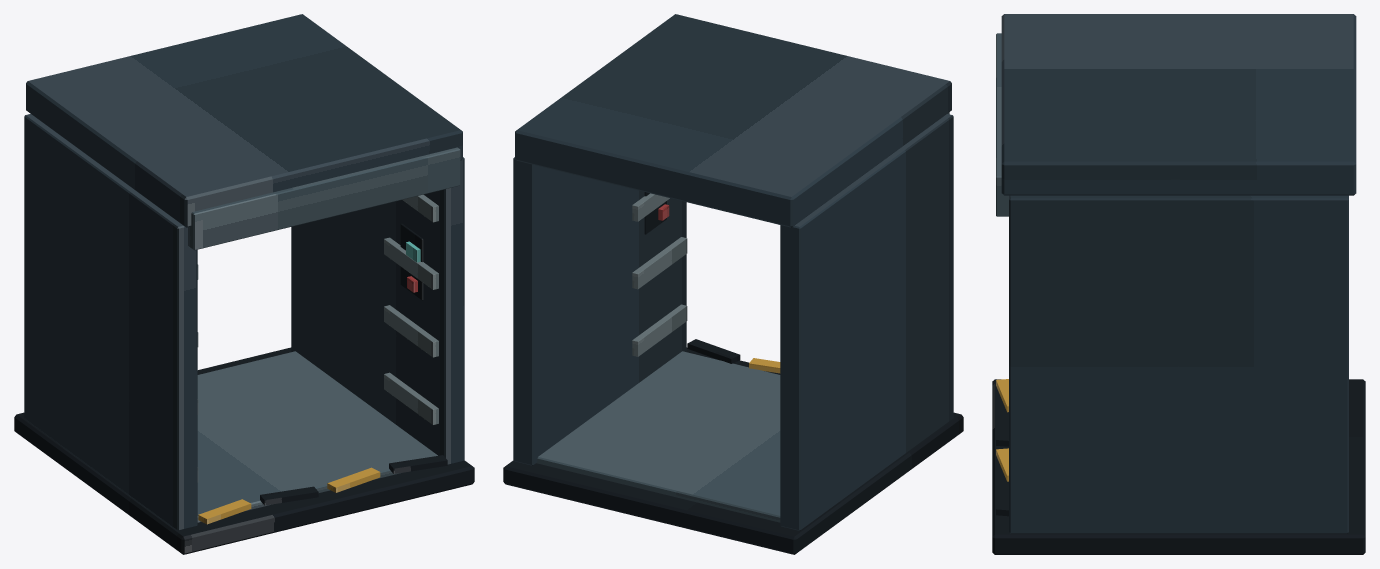
Rendered from lift.glb.
3 views of the same model, side by side, from view 1: azimuth 30°, elevation 25°; view 2: azimuth 150°, elevation 25°; view 3: azimuth 270°, elevation 25° (orthographic). The views are drawn at different scales.
Visible parts, largest first — view 1: LiftRail_L, LiftRoof, LiftRail_R, PlatformInset, LiftPlatform, FrontHeader, RailBand_R_2, RailBand_R_1, RailBand_R_3, CallPanel, Hazard_2, Hazard_4 (+3 smaller); view 2: LiftRoof, LiftRail_L, LiftRail_R, PlatformInset, LiftPlatform, RailBand_R_1, RailBand_R_2, Hazard_4, RailBand_R_3; view 3: LiftRail_R, LiftRoof, LiftPlatform, FrontHeader.
Boxes of the visible parts, left/top/right/bottom form: LiftRail_L: left=24, top=114, right=197, bottom=530; LiftRoof: left=26, top=14, right=462, bottom=227; LiftRail_R: left=291, top=157, right=464, bottom=464; PlatformInset: left=197, top=351, right=437, bottom=522; LiftPlatform: left=14, top=347, right=474, bottom=554; FrontHeader: left=188, top=147, right=460, bottom=250; RailBand_R_2: left=384, top=305, right=438, bottom=357; RailBand_R_1: left=384, top=372, right=438, bottom=424; RailBand_R_3: left=384, top=237, right=438, bottom=289; CallPanel: left=400, top=223, right=423, bottom=300; Hazard_2: left=260, top=486, right=318, bottom=505; Hazard_4: left=389, top=455, right=447, bottom=473; LiftRoof: left=515, top=14, right=951, bottom=227; LiftRail_L: left=780, top=114, right=953, bottom=530; LiftRail_R: left=513, top=157, right=686, bottom=465; PlatformInset: left=536, top=351, right=780, bottom=522; LiftPlatform: left=503, top=347, right=963, bottom=554; RailBand_R_1: left=632, top=304, right=687, bottom=356; RailBand_R_2: left=632, top=237, right=687, bottom=289; Hazard_4: left=687, top=339, right=740, bottom=363; RailBand_R_3: left=632, top=193, right=669, bottom=221; LiftRail_R: left=1009, top=195, right=1348, bottom=533; LiftRoof: left=1001, top=14, right=1356, bottom=195; LiftPlatform: left=992, top=379, right=1365, bottom=554; FrontHeader: left=996, top=33, right=1008, bottom=216.
Bounding box in the file's own units: 2 × 2.3 × 2.
Materials: 1 (1 with a texture image).
